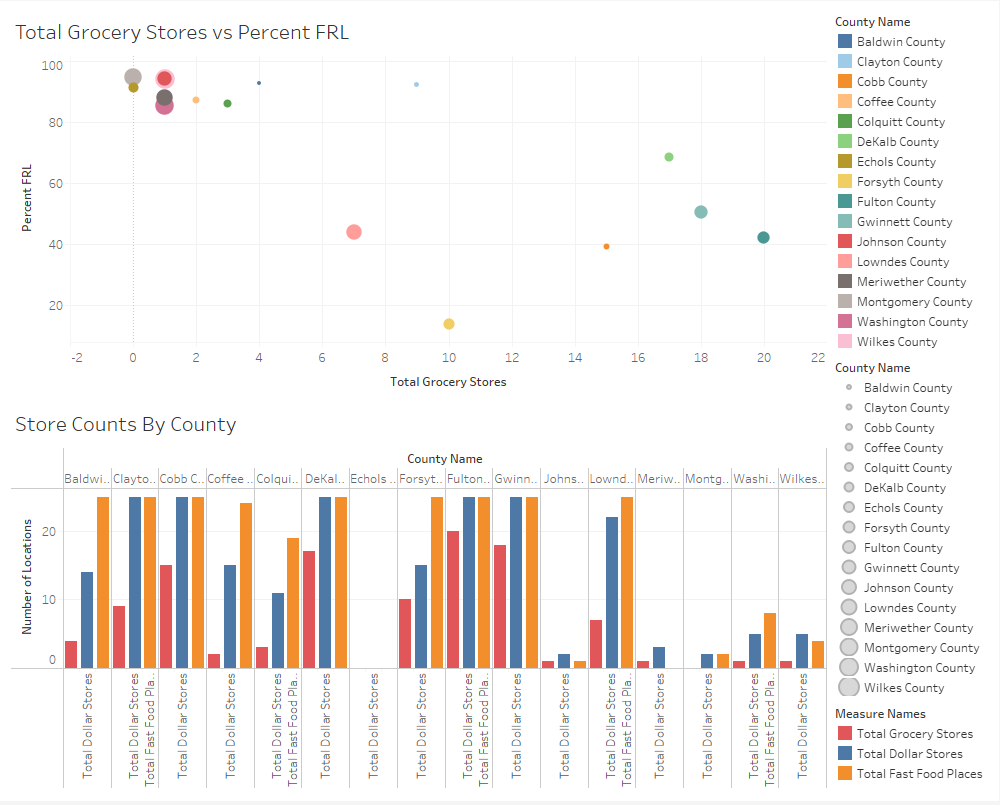

Layout of this report page (visuals, bound fields, positions):
{"tool":"tableau","page":{"name":"Incomes vs Grocery Stores","canvas":[1000,800],"ordinal":2},"visuals":[{"type":"worksheet","title":"Total Grocery Stores vs Percent FRL","mark":"Automatic","rows":["Percent_FRL"],"cols":["Total_Grocery_Stores"],"box":[8,8,824,392]},{"type":"legend","title":"Total Grocery Stores vs Percent FRL","param":"[federated.0huhagd0thqpzg14bvlka0dq6hxi].[none:County_Name:nk]","box":[832,8,160,346]},{"type":"legend","title":"Total Grocery Stores vs Percent FRL","param":"[federated.0huhagd0thqpzg14bvlka0dq6hxi].[none:County_Name:nk]","box":[832,354,160,346]},{"type":"worksheet","title":"Store Counts By County","mark":"Automatic","cols":["County_Name"],"box":[8,400,824,392]},{"type":"legend","title":"Store Counts By County","param":"[federated.0huhagd0thqpzg14bvlka0dq6hxi].[:Measure Names]","box":[832,700,160,86]}]}

Visuals, with their boxes in screenshot pixels (x1, y1, x2, y2), scaled from the page's 1000x800 canvas onto the 1000x805 screenshot:
"Total Grocery Stores vs Percent FRL" worksheet: bbox=[8, 8, 832, 403]
"Total Grocery Stores vs Percent FRL" legend: bbox=[832, 8, 992, 356]
"Total Grocery Stores vs Percent FRL" legend: bbox=[832, 356, 992, 704]
"Store Counts By County" worksheet: bbox=[8, 403, 832, 797]
"Store Counts By County" legend: bbox=[832, 704, 992, 791]
